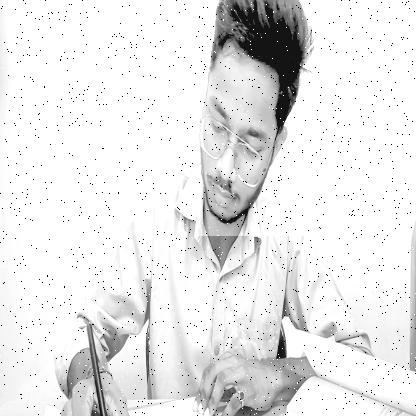Distracted: (197, 0, 310, 236)
